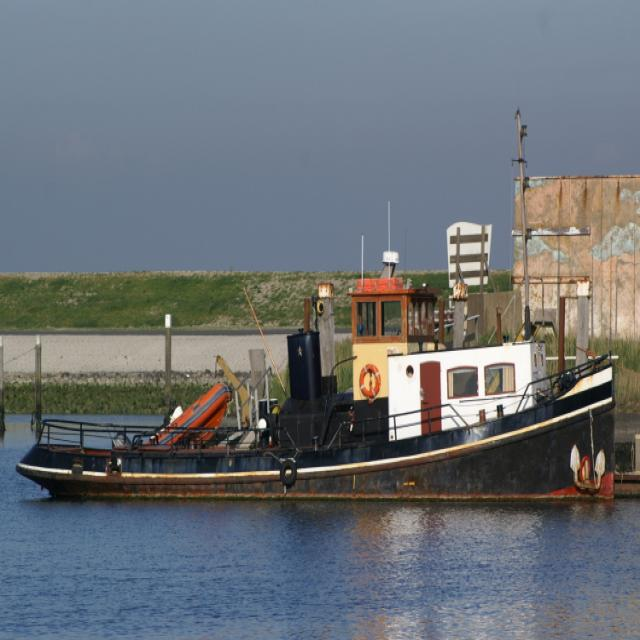tugboat: (13, 197, 623, 529)
